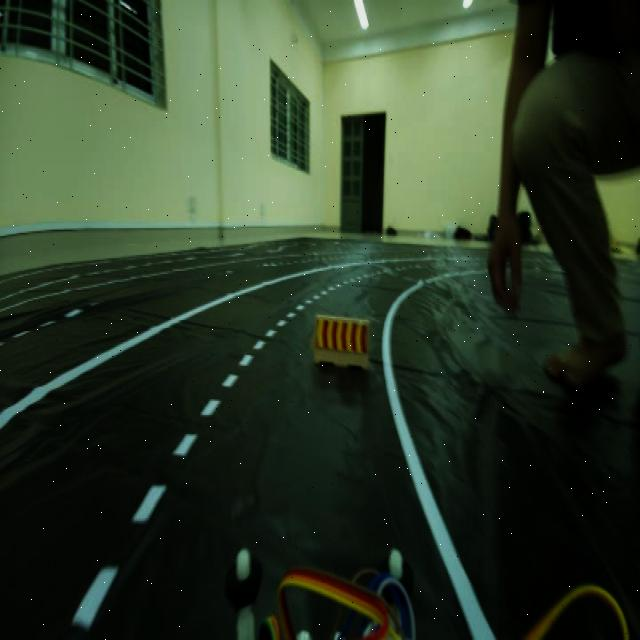roadblock: (302, 292, 379, 381)
